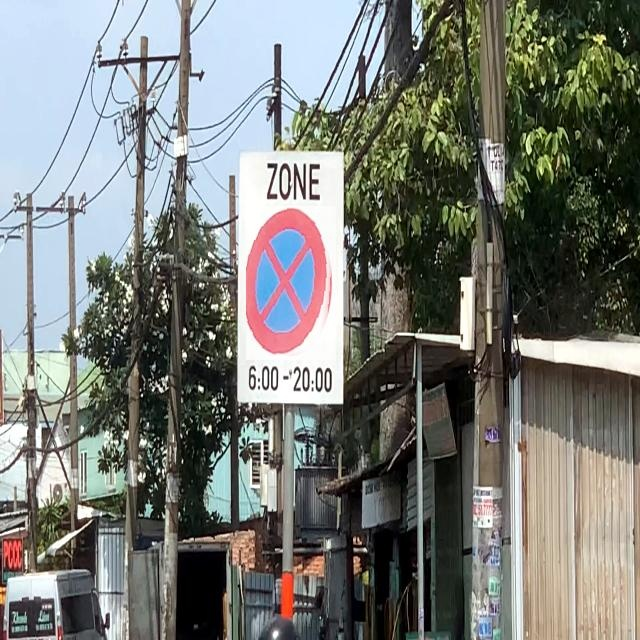bien_cam: (246, 206, 336, 360)
